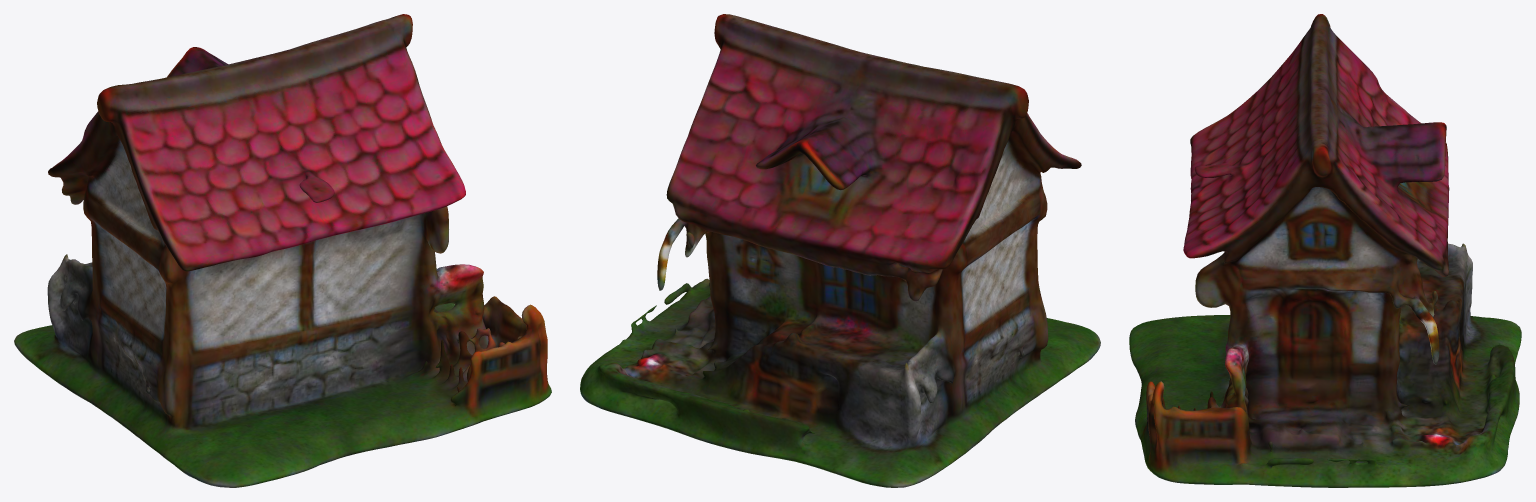
Rendered from cottage.glb.
3 views of the same model, side by side, from view 1: azimuth 30°, elevation 25°; view 2: azimuth 150°, elevation 25°; view 3: azimuth 270°, elevation 25° (orthographic). The views are drawn at different scales.
Parts seen in each view (by area): view 1: geometry_0; view 2: geometry_0; view 3: geometry_0.
Part boxes in pixels (x1,y1,x2,y2): geometry_0: [14, 14, 551, 487]; geometry_0: [580, 14, 1100, 487]; geometry_0: [1129, 14, 1521, 487].
Bounding box in the file's own units: 0.3951 × 0.3316 × 0.3823.
1 material, 1 textured.
